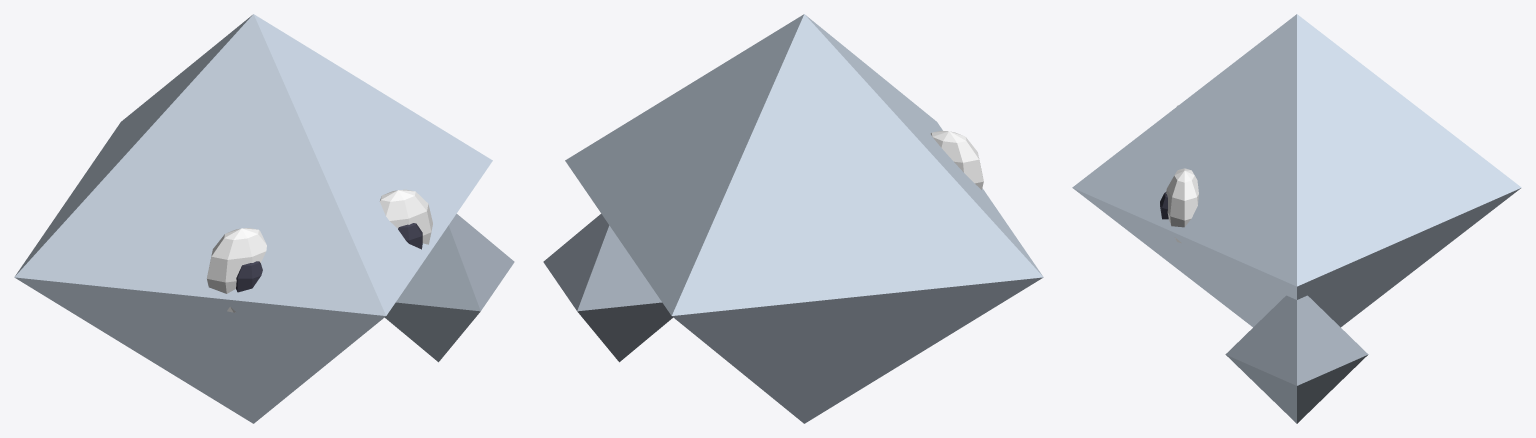
File: bearkit.glb
3 views of the same model, side by side, from view 1: azimuth 30°, elevation 25°; view 2: azimuth 150°, elevation 25°; view 3: azimuth 270°, elevation 25° (orthographic). The views are drawn at different scales.
Visible parts, largest first — view 1: bearkit; view 2: bearkit; view 3: bearkit.
Boxes of the visible parts, box(x1,y1,x2,y2) form: bearkit: box(14, 14, 514, 423); bearkit: box(543, 14, 1043, 423); bearkit: box(1072, 14, 1521, 423).
Size of the model in its own units: 1.44 by 1.12 by 1.32.
